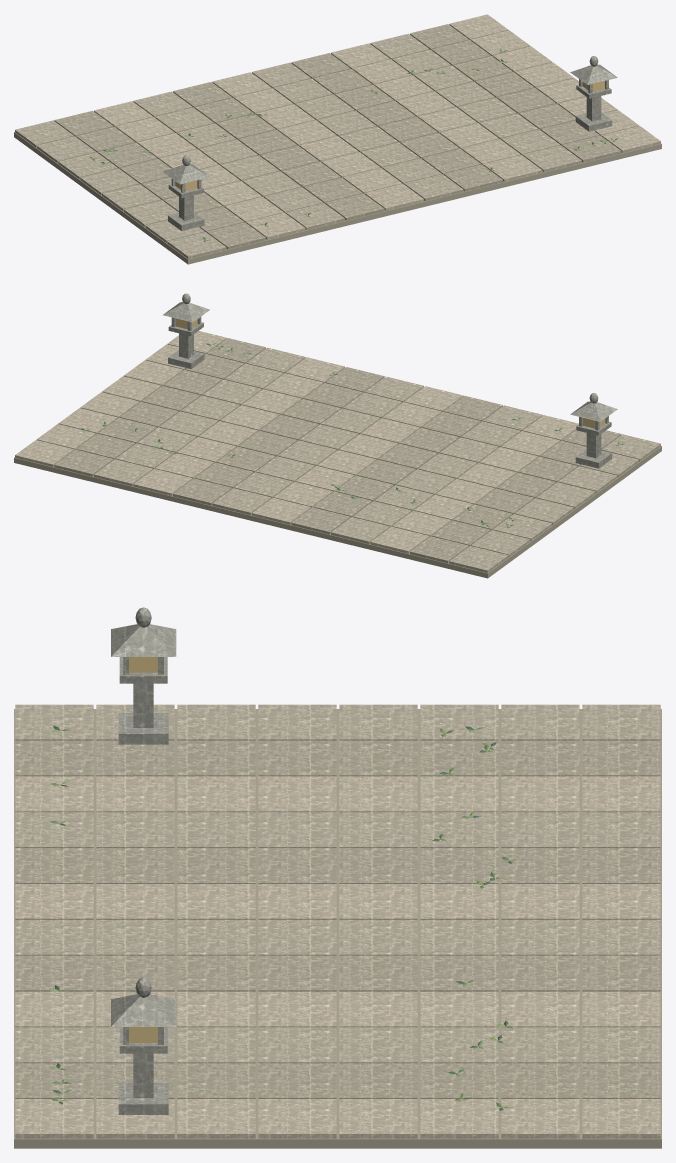
Rendered from shrine_court-exterior-refined-v1.glb.
3 views of the same model, one above another, from view 1: azimuth 30°, elevation 25°; view 2: azimuth 150°, elevation 25°; view 3: azimuth 270°, elevation 25° (orthographic). The views are drawn at different scales.
Visible parts, largest first — view 1: shrine_court_01_原有建筑轮廓与构件_EX_c0b8a4_dark_rock_surface, shrine_court_01_原有建筑轮廓与构件_EX_b8b09d_dark_rock_surface, shrine_court_01_原有建筑轮廓与构件_EX_c9bfaa_dark_rock_surface, shrine_court_01_原有建筑轮廓与构件_EX_b3ad98_plain_surface, shrine_court_01_原有建筑轮廓与构件_EX_a4a49a_dark_rock_surface, shrine_court_02_屋顶瓦作_EX_a4a49a_dark_rock_surface; view 2: shrine_court_01_原有建筑轮廓与构件_EX_c0b8a4_dark_rock_surface, shrine_court_01_原有建筑轮廓与构件_EX_b8b09d_dark_rock_surface, shrine_court_01_原有建筑轮廓与构件_EX_c9bfaa_dark_rock_surface, shrine_court_01_原有建筑轮廓与构件_EX_b3ad98_plain_surface, shrine_court_01_原有建筑轮廓与构件_EX_a4a49a_dark_rock_surface, shrine_court_02_屋顶瓦作_EX_a4a49a_dark_rock_surface; view 3: shrine_court_01_原有建筑轮廓与构件_EX_c9bfaa_dark_rock_surface, shrine_court_01_原有建筑轮廓与构件_EX_b8b09d_dark_rock_surface, shrine_court_01_原有建筑轮廓与构件_EX_c0b8a4_dark_rock_surface, shrine_court_01_原有建筑轮廓与构件_EX_b3ad98_plain_surface, shrine_court_01_原有建筑轮廓与构件_EX_a4a49a_dark_rock_surface, shrine_court_02_屋顶瓦作_EX_a4a49a_dark_rock_surface.
Part boxes in pixels (x1,y1,x2,y2): shrine_court_01_原有建筑轮廓与构件_EX_c0b8a4_dark_rock_surface: (15,33,581,258); shrine_court_01_原有建筑轮廓与构件_EX_b8b09d_dark_rock_surface: (54,24,621,249); shrine_court_01_原有建筑轮廓与构件_EX_c9bfaa_dark_rock_surface: (94,14,660,239); shrine_court_01_原有建筑轮廓与构件_EX_b3ad98_plain_surface: (14,132,661,264); shrine_court_01_原有建筑轮廓与构件_EX_a4a49a_dark_rock_surface: (168,79,612,230); shrine_court_02_屋顶瓦作_EX_a4a49a_dark_rock_surface: (163,64,617,184); shrine_court_01_原有建筑轮廓与构件_EX_c0b8a4_dark_rock_surface: (94,347,660,572); shrine_court_01_原有建筑轮廓与构件_EX_b8b09d_dark_rock_surface: (54,338,621,563); shrine_court_01_原有建筑轮廓与构件_EX_c9bfaa_dark_rock_surface: (15,331,578,553); shrine_court_01_原有建筑轮廓与构件_EX_b3ad98_plain_surface: (14,446,661,578); shrine_court_01_原有建筑轮廓与构件_EX_a4a49a_dark_rock_surface: (168,317,612,468); shrine_court_02_屋顶瓦作_EX_a4a49a_dark_rock_surface: (162,302,617,421); shrine_court_01_原有建筑轮廓与构件_EX_c9bfaa_dark_rock_surface: (15,776,660,1138); shrine_court_01_原有建筑轮廓与构件_EX_b8b09d_dark_rock_surface: (15,740,660,1098); shrine_court_01_原有建筑轮廓与构件_EX_c0b8a4_dark_rock_surface: (15,704,660,1063); shrine_court_01_原有建筑轮廓与构件_EX_b3ad98_plain_surface: (14,709,661,1148); shrine_court_01_原有建筑轮廓与构件_EX_a4a49a_dark_rock_surface: (118,657,168,1114); shrine_court_02_屋顶瓦作_EX_a4a49a_dark_rock_surface: (111,624,176,1026).
Size of the model in its own units: 22 by 3.35 by 14.
9 materials, 5 textured.
